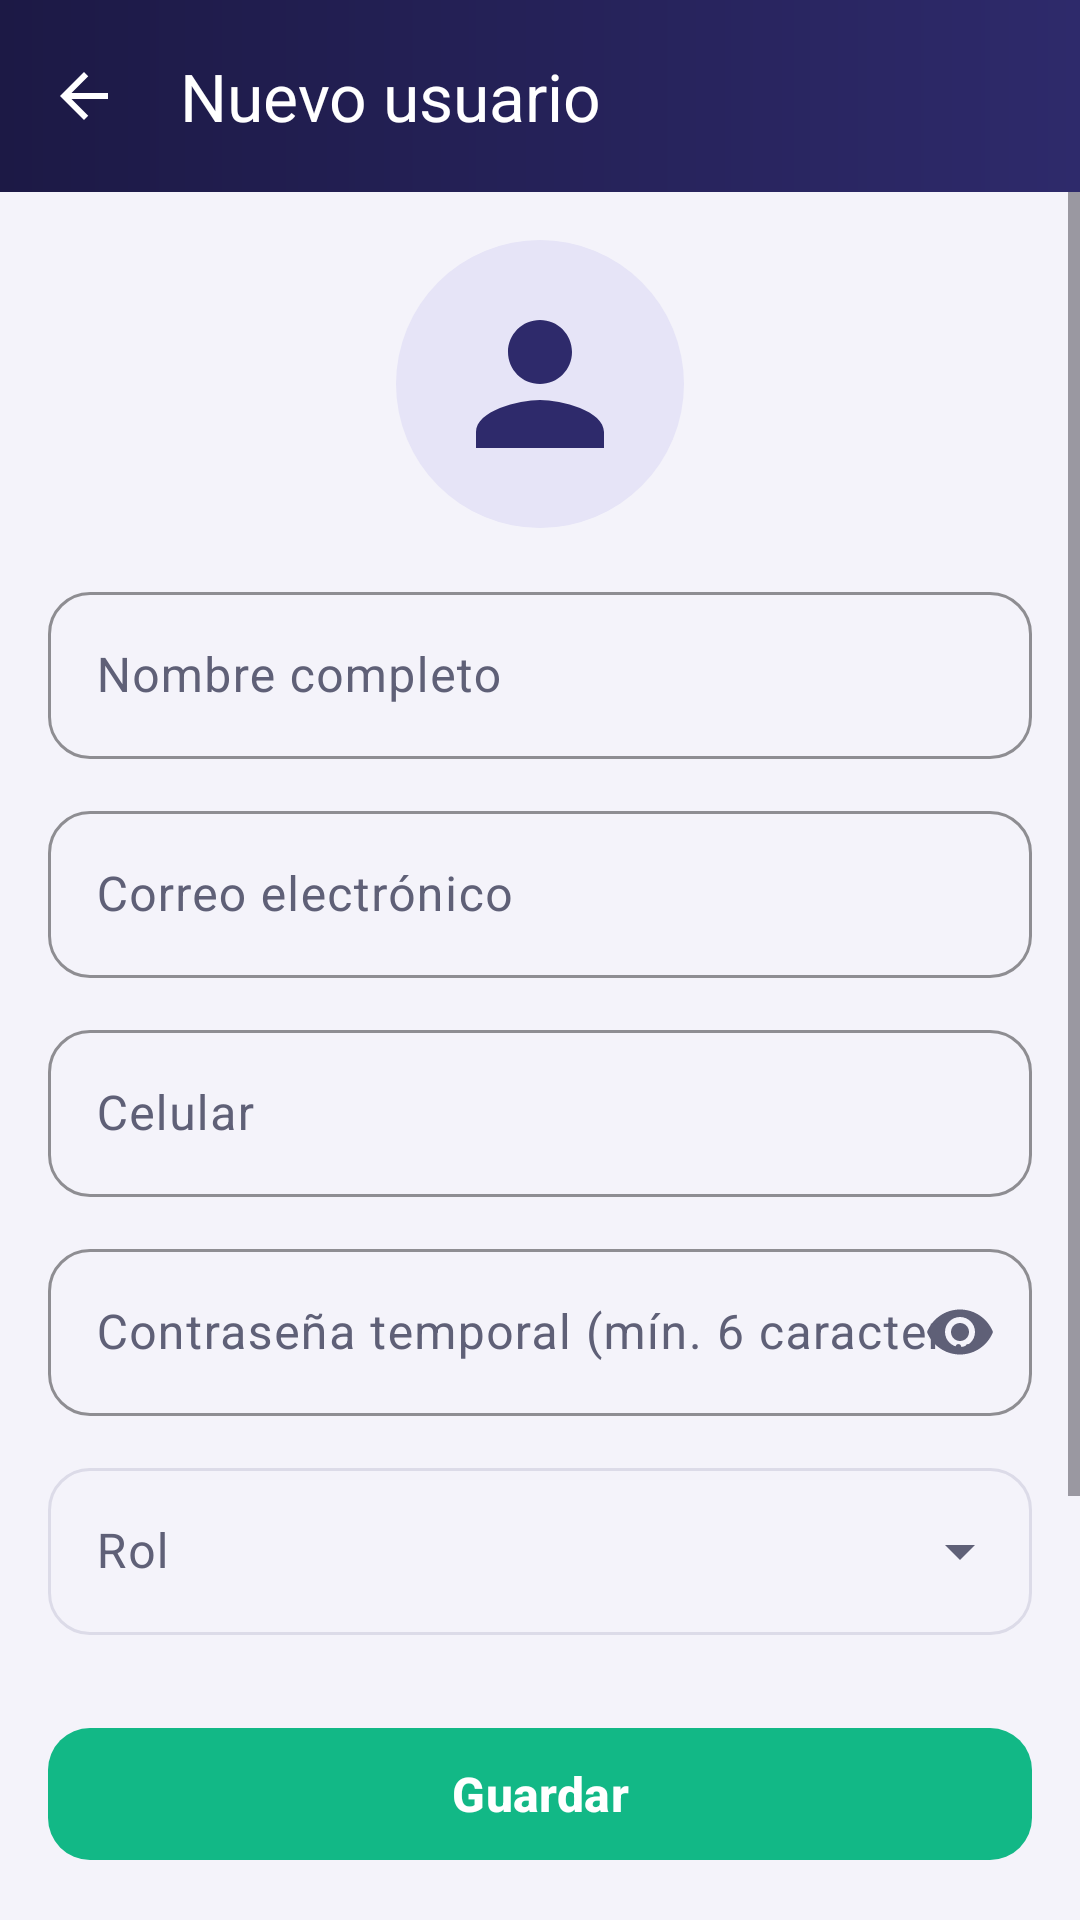

Named icons in this screenshot (1080 × 1920) and their centers, point (x, y):
Foto de perfil: point (540, 384)
